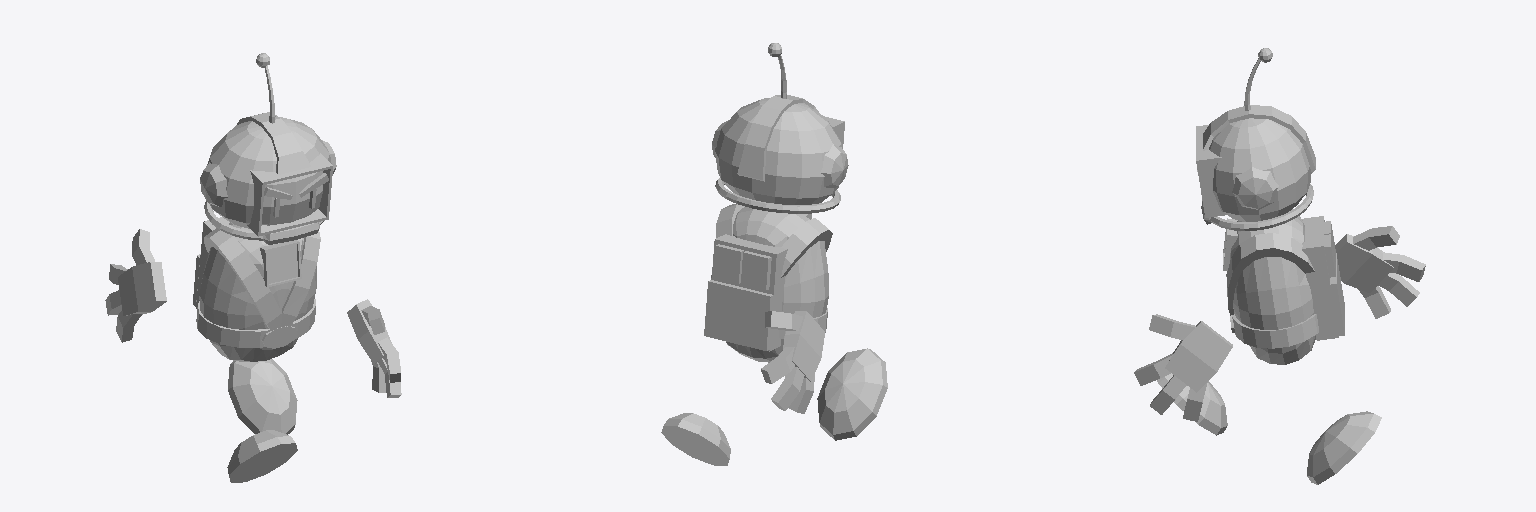
The model's file is bomberman_000002.obj.
3 views of the same model, side by side, from view 1: azimuth 30°, elevation 25°; view 2: azimuth 150°, elevation 25°; view 3: azimuth 270°, elevation 25° (orthographic).
Parts seen in each view (by area): view 1: BM_BODY.002_Mesh.009, BM_Head.002_Mesh.005, BM_Head.001_Mesh.004, BM_BODY.001_Mesh.008, L_Foot_Mesh, R_Hand_Mesh.003, L_Hand_Mesh.002, R_Foot_Mesh.001; view 2: BM_BODY.002_Mesh.009, BM_Head.002_Mesh.005, BM_BODY.001_Mesh.008, R_Foot_Mesh.001, BM_Head.001_Mesh.004, R_Hand_Mesh.003, L_Foot_Mesh; view 3: BM_BODY.002_Mesh.009, BM_Head.002_Mesh.005, BM_BODY.001_Mesh.008, BM_Head.001_Mesh.004, L_Hand_Mesh.002, R_Hand_Mesh.003, L_Foot_Mesh, R_Foot_Mesh.001.
Part boxes in pixels (left/top/right/bottom): BM_BODY.002_Mesh.009: left=193, top=217, right=320, bottom=348; BM_Head.002_Mesh.005: left=207, top=117, right=331, bottom=244; BM_Head.001_Mesh.004: left=200, top=112, right=336, bottom=240; BM_BODY.001_Mesh.008: left=199, top=222, right=316, bottom=361; L_Foot_Mesh: left=228, top=359, right=297, bottom=434; R_Hand_Mesh.003: left=105, top=229, right=166, bottom=342; L_Hand_Mesh.002: left=347, top=299, right=401, bottom=397; R_Foot_Mesh.001: left=227, top=430, right=297, bottom=482; BM_BODY.002_Mesh.009: left=704, top=204, right=832, bottom=351; BM_Head.002_Mesh.005: left=715, top=98, right=841, bottom=204; BM_BODY.001_Mesh.008: left=711, top=207, right=828, bottom=362; R_Foot_Mesh.001: left=817, top=348, right=887, bottom=440; BM_Head.001_Mesh.004: left=712, top=95, right=848, bottom=213; R_Hand_Mesh.003: left=761, top=311, right=824, bottom=413; L_Foot_Mesh: left=661, top=413, right=730, bottom=465; BM_BODY.002_Mesh.009: left=1223, top=209, right=1344, bottom=348; BM_Head.002_Mesh.005: left=1201, top=118, right=1311, bottom=224; BM_BODY.001_Mesh.008: left=1230, top=217, right=1315, bottom=364; BM_Head.001_Mesh.004: left=1196, top=105, right=1315, bottom=230; L_Hand_Mesh.002: left=1134, top=314, right=1232, bottom=421; R_Hand_Mesh.003: left=1335, top=226, right=1425, bottom=318; L_Foot_Mesh: left=1307, top=411, right=1381, bottom=484; R_Foot_Mesh.001: left=1157, top=373, right=1227, bottom=435.
Bounding box in the file's own units: 3.61 × 8 × 5.11.